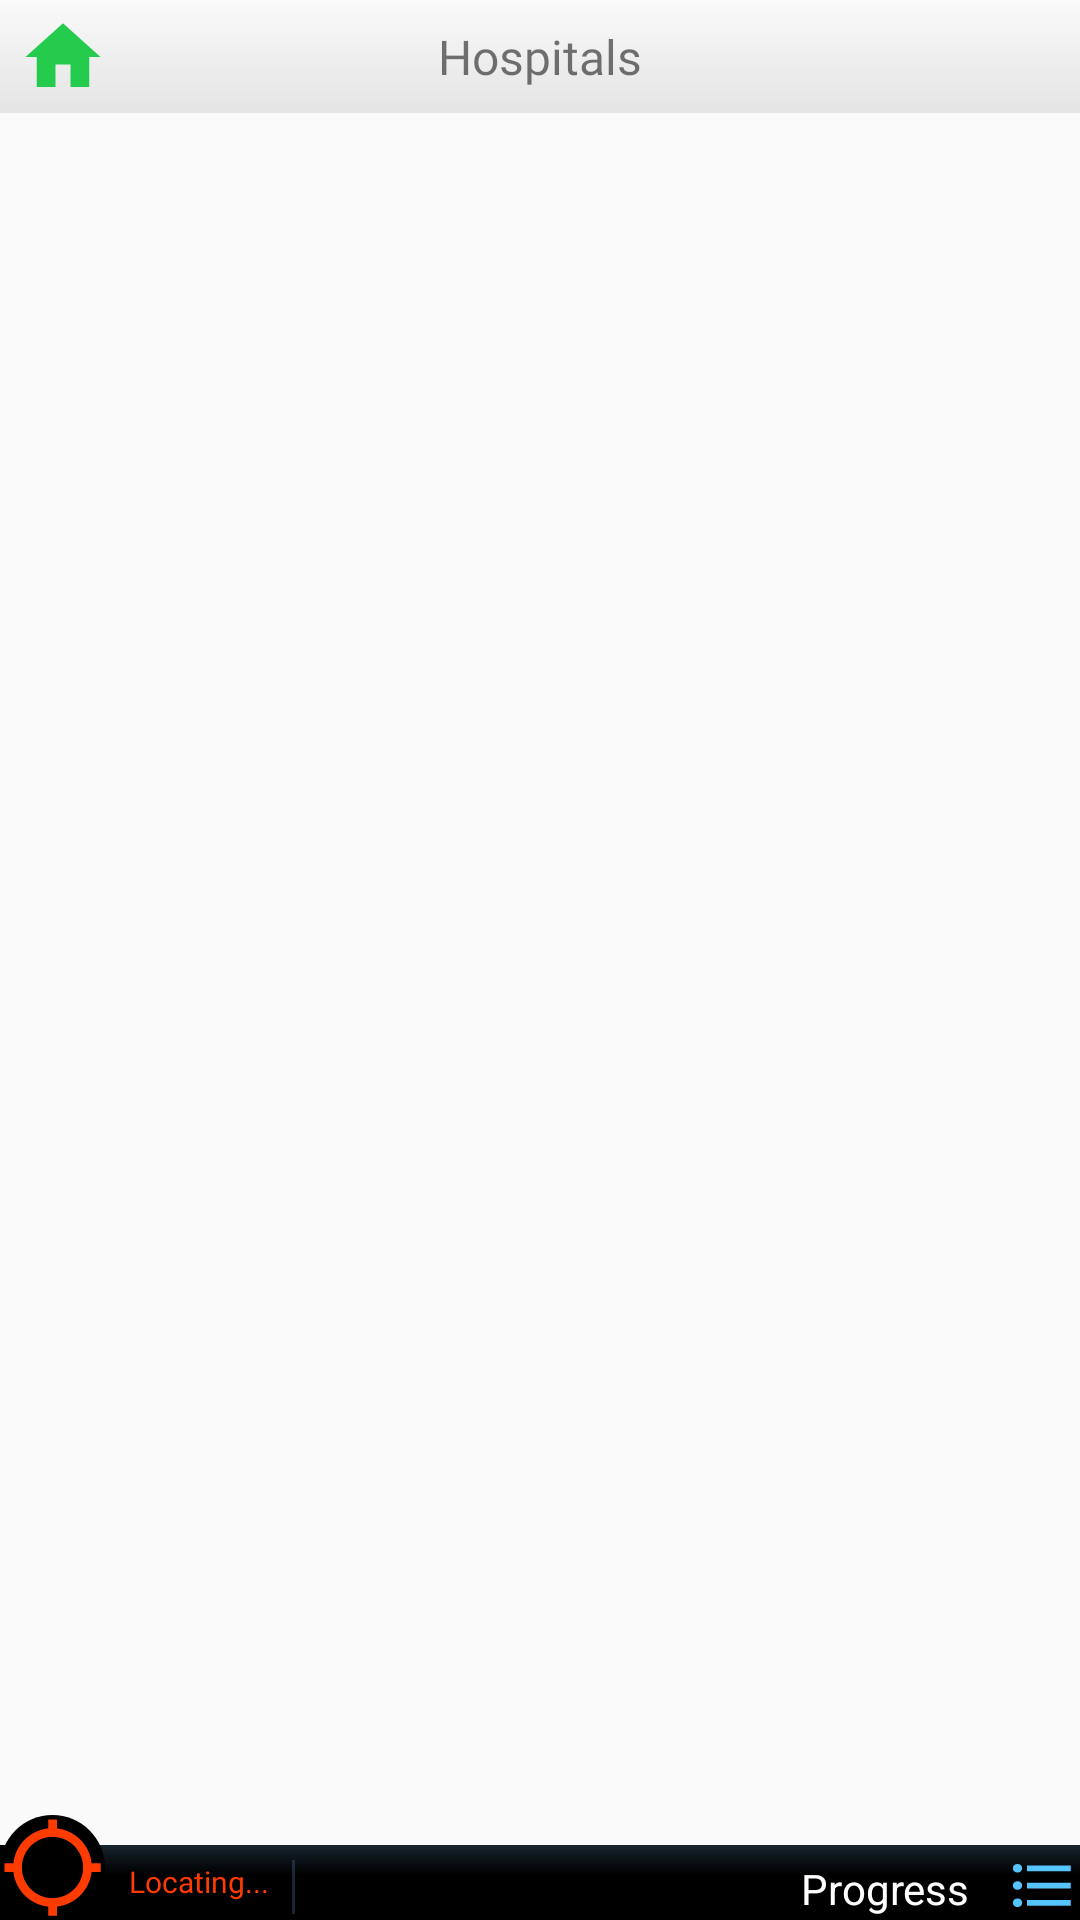

Where to tap for icons on this 1080x1920 app screen, as (x=x, y=y):
format list bulleted: (x=1042, y=1891)
gps not fixed: (x=52, y=1867)
home: (x=63, y=55)
